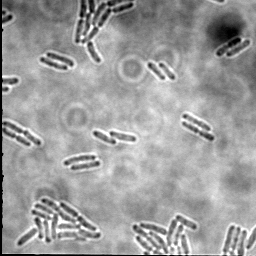Dividing: (3, 119, 43, 147), (181, 120, 216, 142), (181, 112, 213, 132), (2, 127, 32, 147), (39, 55, 68, 72), (63, 153, 98, 167)
Microcolony: (16, 196, 102, 247), (73, 0, 137, 64), (132, 212, 198, 255), (222, 223, 255, 255)
Rod: (46, 51, 76, 68), (226, 39, 252, 58), (91, 129, 117, 146), (147, 60, 167, 81), (71, 159, 101, 172), (158, 61, 177, 81), (109, 130, 138, 143)
